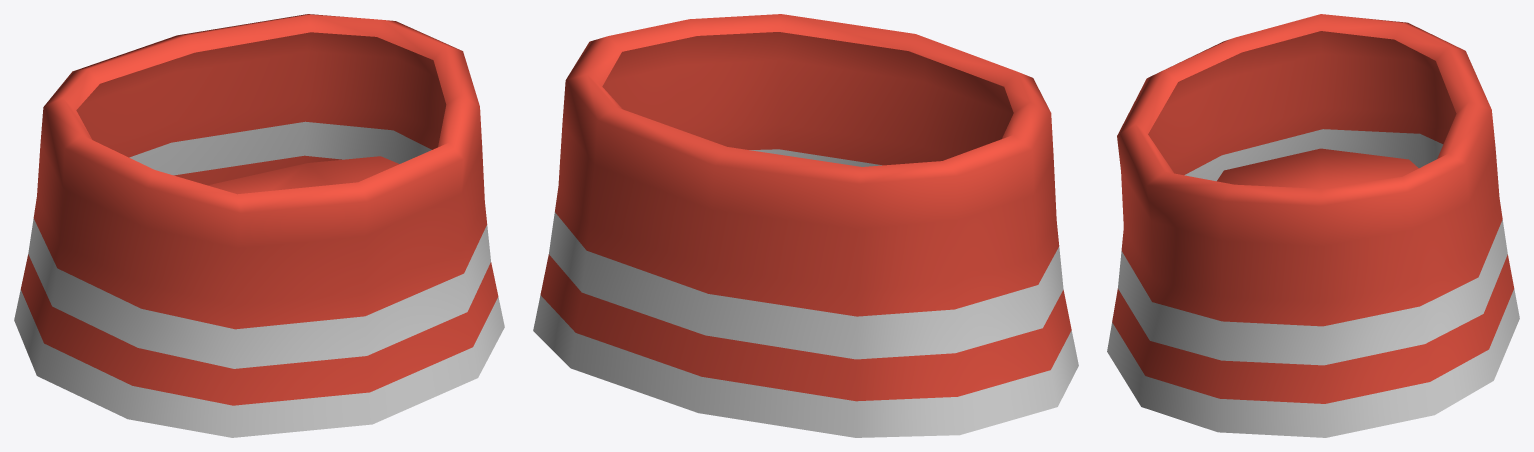
The model's file is bottom65.fbx.
The picture shows the model from 3 angles, left to right: view 1: azimuth 30°, elevation 25°; view 2: azimuth 150°, elevation 25°; view 3: azimuth 270°, elevation 25°; orthographic projection. The views are drawn at different scales.
Parts seen in each view (by area): view 1: Bottom_65; view 2: Bottom_65; view 3: Bottom_65.
Boxes of the visible parts, box(x1,y1,x2,y2) form: Bottom_65: box(14, 14, 504, 437); Bottom_65: box(533, 14, 1078, 437); Bottom_65: box(1107, 14, 1519, 437).
Size of the model in its own units: 43.31 by 23.57 by 35.06.
